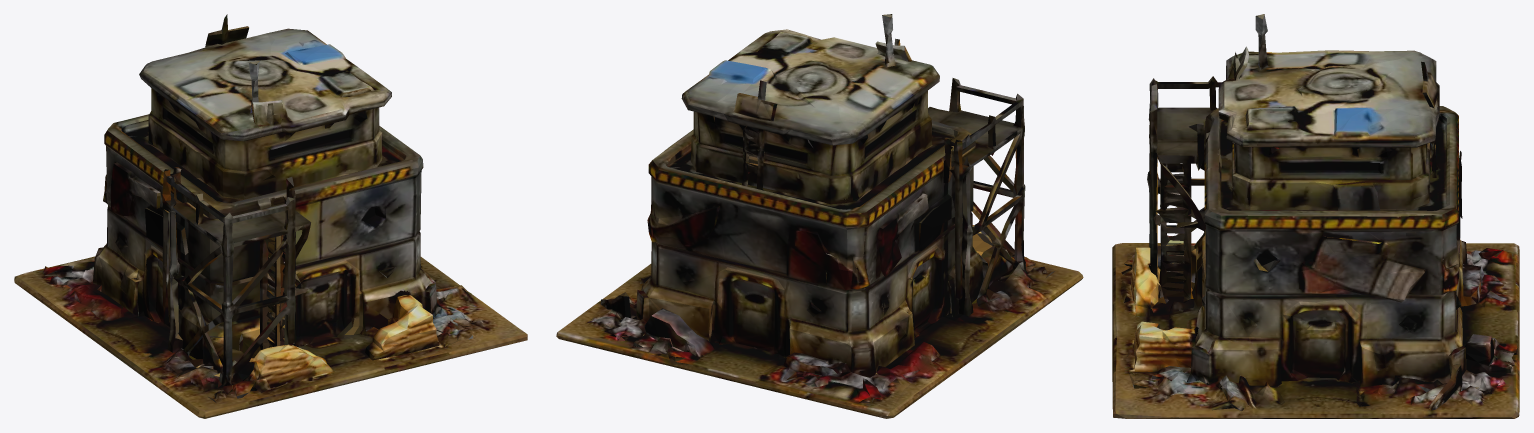
Rendered from outpost-comm-tower.glb.
3 views of the same model, side by side, from view 1: azimuth 30°, elevation 25°; view 2: azimuth 150°, elevation 25°; view 3: azimuth 270°, elevation 25° (orthographic). The views are drawn at different scales.
Visible parts, largest first — view 1: tmpc8cokr46.ply; view 2: tmpc8cokr46.ply; view 3: tmpc8cokr46.ply.
Part boxes in pixels (box(x1,y1,x2,y2)): tmpc8cokr46.ply: box(14, 14, 527, 418); tmpc8cokr46.ply: box(556, 14, 1083, 418); tmpc8cokr46.ply: box(1112, 14, 1519, 418).
Size of the model in its own units: 5 by 4 by 5.
Materials: 1 (1 with a texture image).
